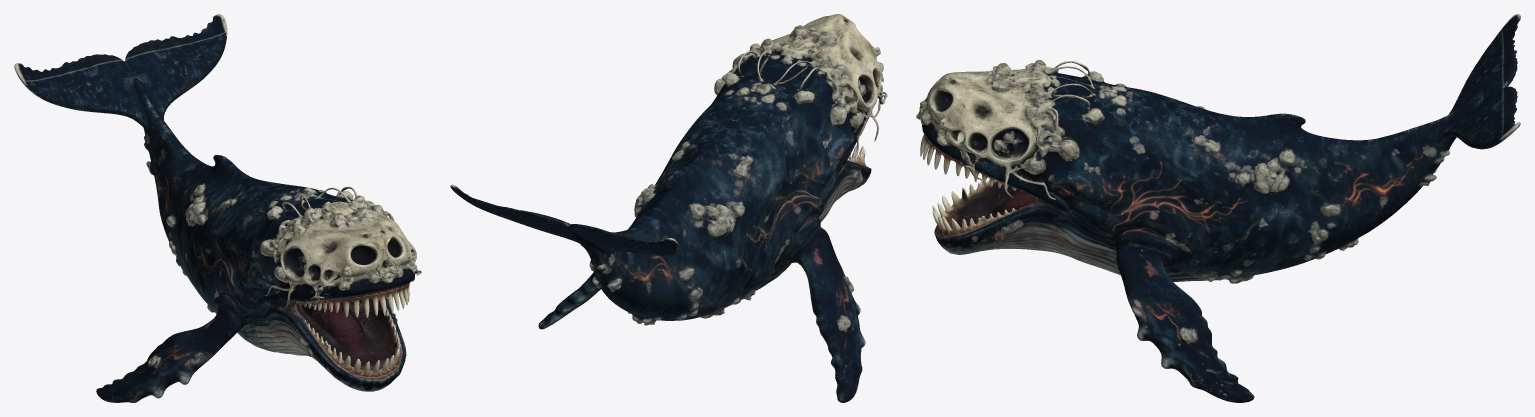
The model's file is whale_meshy.glb.
3 views of the same model, side by side, from view 1: azimuth 30°, elevation 25°; view 2: azimuth 150°, elevation 25°; view 3: azimuth 270°, elevation 25° (orthographic). The views are drawn at different scales.
Bounding box in the file's own units: 1.15 × 0.8934 × 1.9.
1 material, 1 textured.
